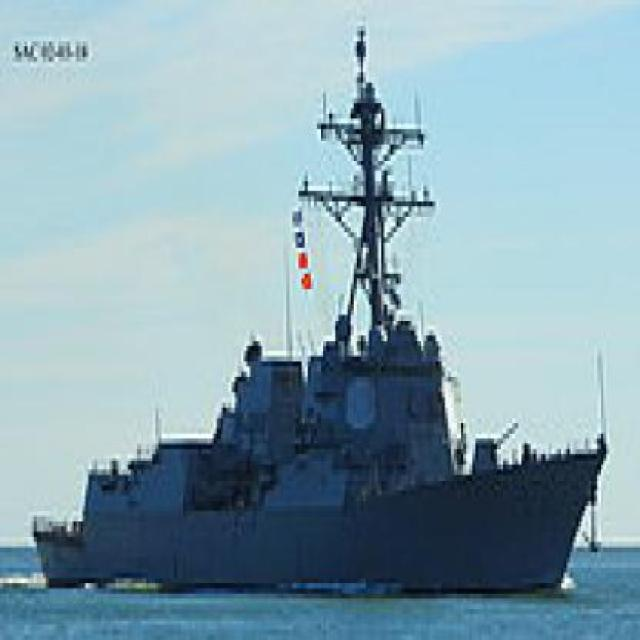warship2: (25, 21, 599, 610)
